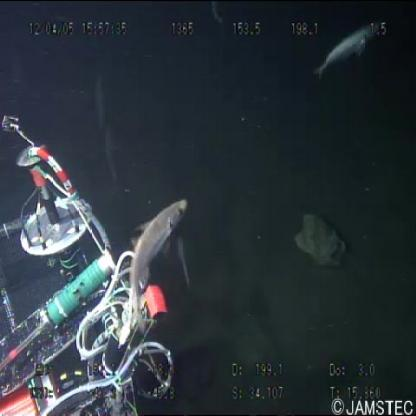Bio: (125, 196, 191, 322), (310, 20, 384, 78)
Rov: (1, 113, 182, 416)
Rác: (291, 208, 348, 273)
